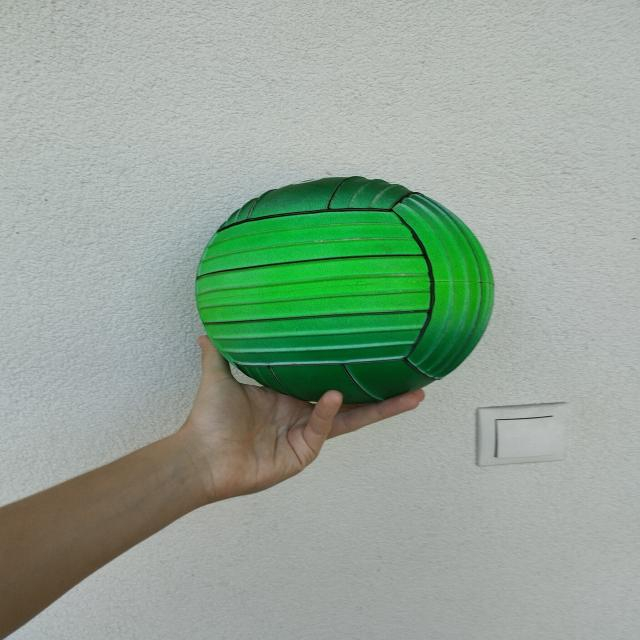zielona: (196, 177, 495, 404)
